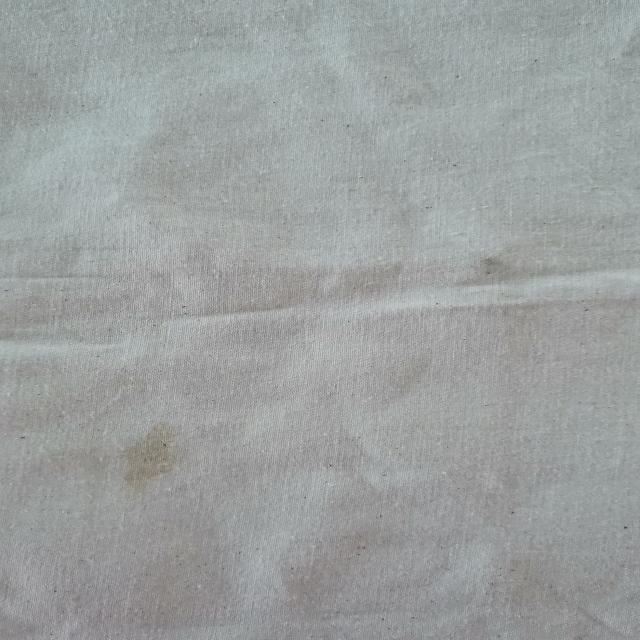taaaches: (113, 424, 205, 499), (451, 246, 537, 296)
